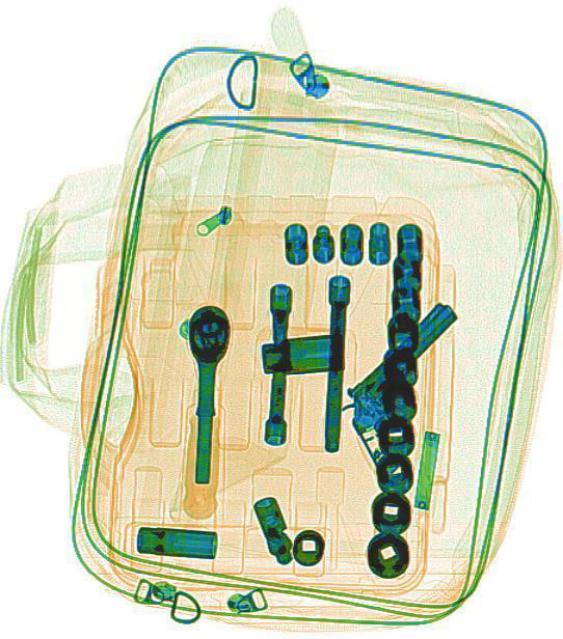Gun: (326, 297, 509, 486)
